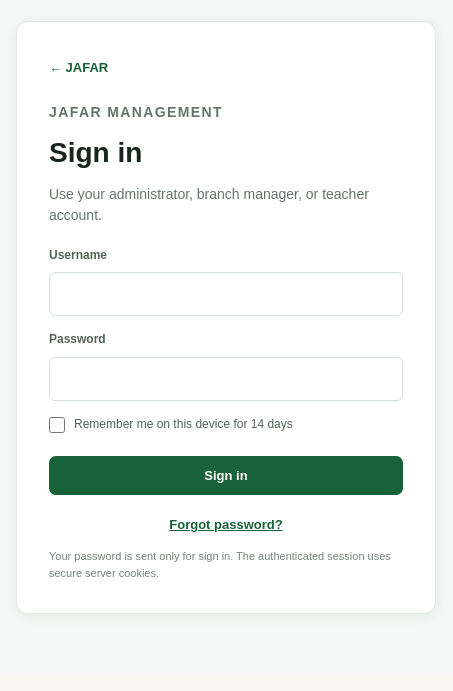
Scenario: Login › shows the inactive-account message returned by the API
Expected: the heading "Sign in" is shown, [49,137,142,168]
Type "teacher1" into the field labelled "Username" at x=226, y=294, box [49,272,403,316]
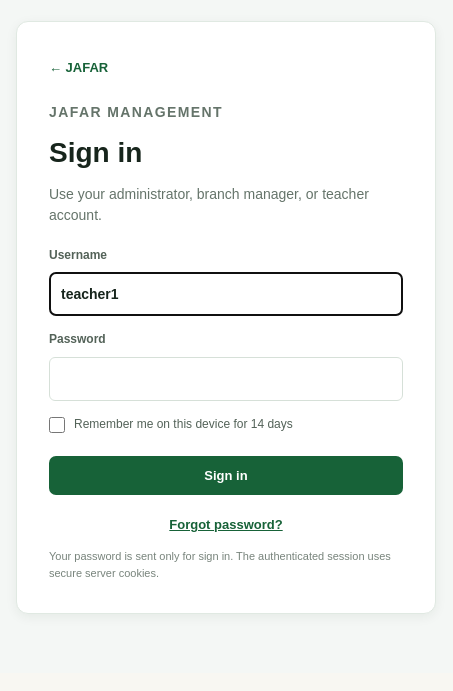
Type "correctpass" into the password field labelled "Password" at x=226, y=379, box [49,357,403,401]
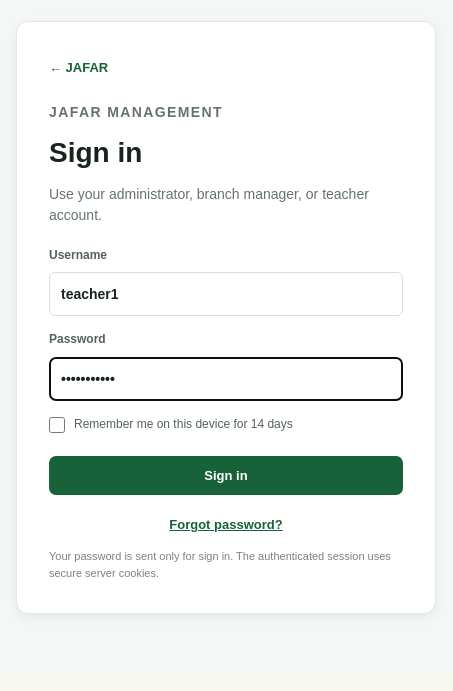
Click the button "Sign in" at x=226, y=476, box [49,456,403,495]
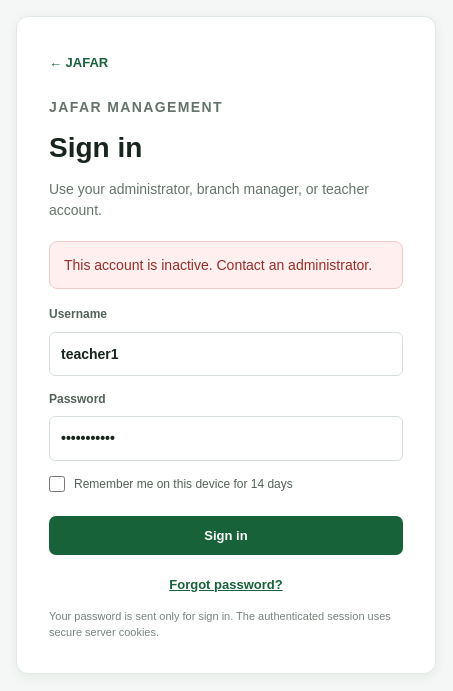
Expected: the message reads "This account is inactive. Contact an administrator.", [64,257,372,273]
